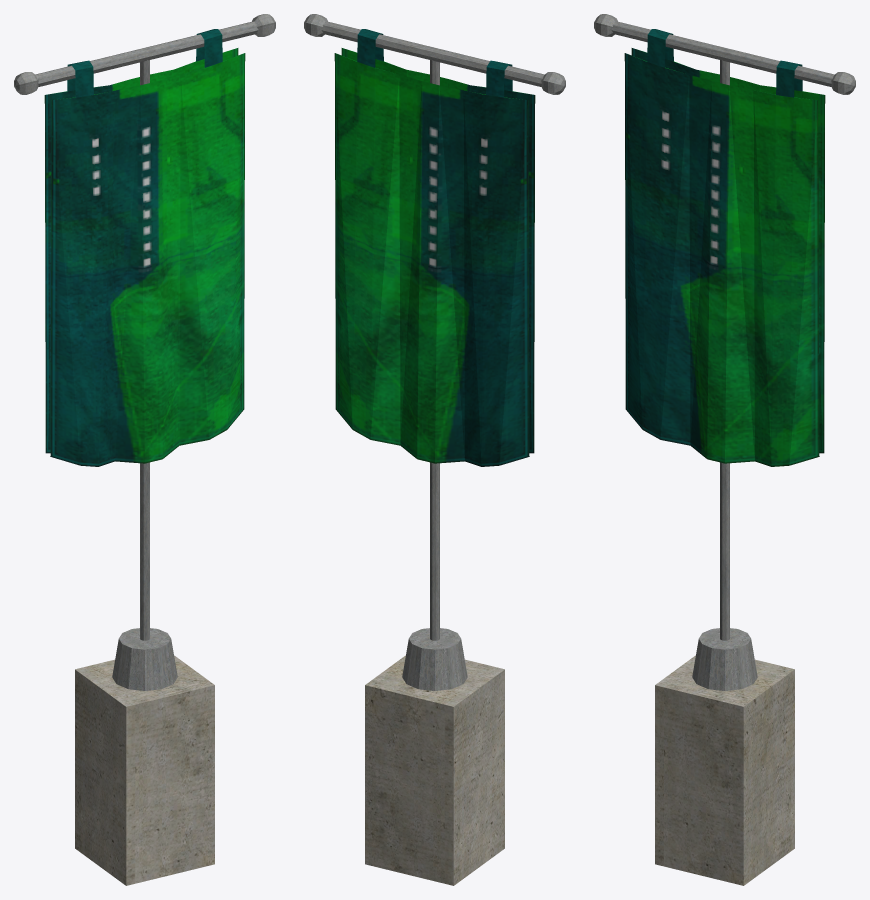
Rendered from thm_all_banner_generic_s01_l0.fbx.
The picture shows the model from 3 angles, left to right: view 1: azimuth 30°, elevation 25°; view 2: azimuth 150°, elevation 25°; view 3: azimuth 330°, elevation 25°; orthographic projection.
Parts seen in each view (by area): view 1: mesh_node; view 2: mesh_node; view 3: mesh_node.
Part boxes in pixels (x1=…): mesh_node: x1=14, y1=14, x2=275, y2=885; mesh_node: x1=304, y1=14, x2=565, y2=885; mesh_node: x1=594, y1=14, x2=855, y2=885.
Size of the model in its own units: 2.19 by 6.56 by 0.75.
